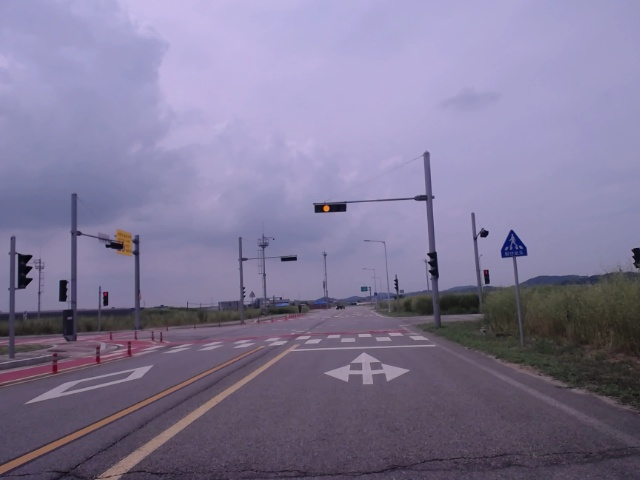orange_4: (315, 201, 347, 214)
